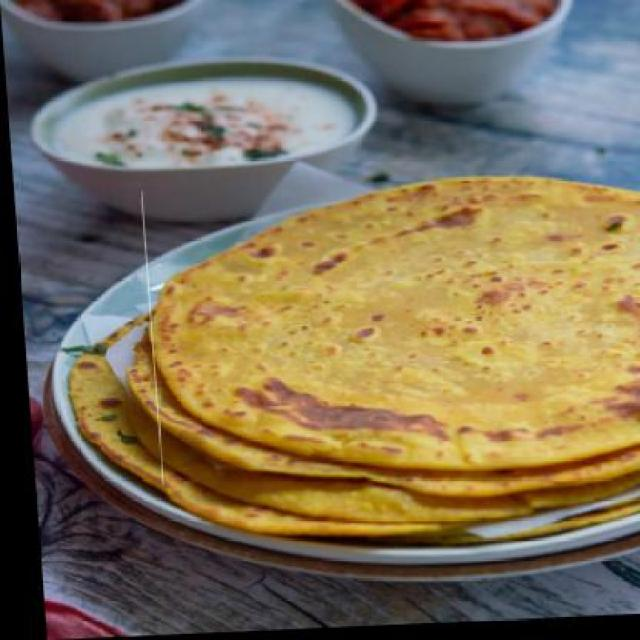chapati: (137, 174, 638, 489)
